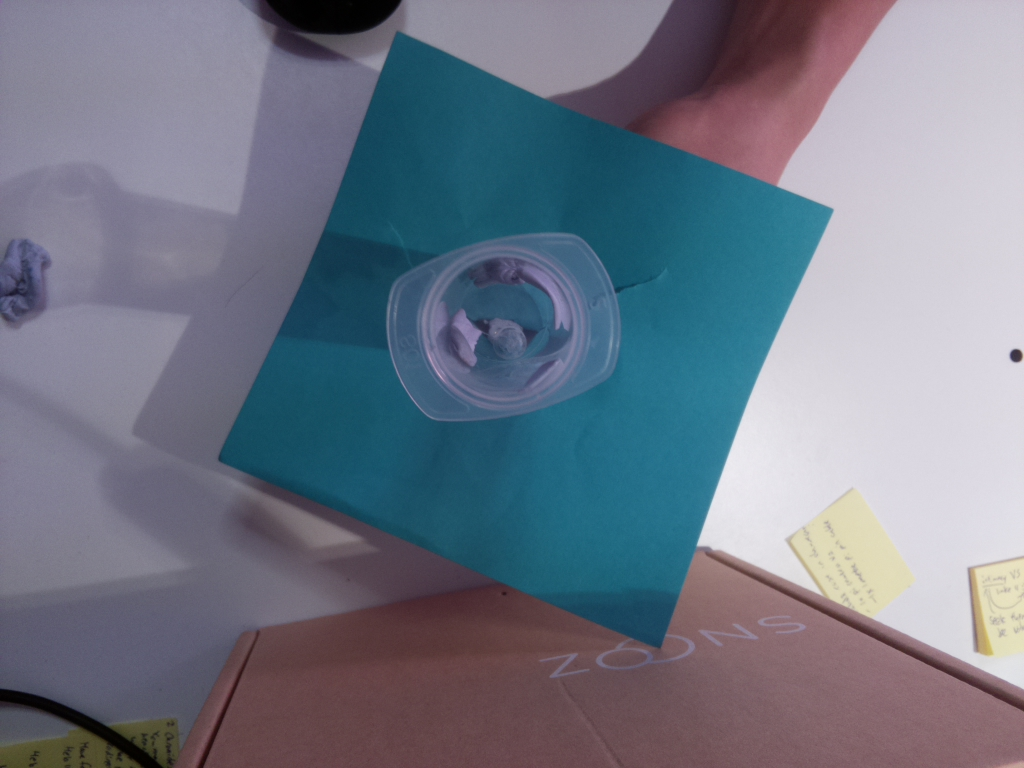dirty: (386, 234, 620, 420)
